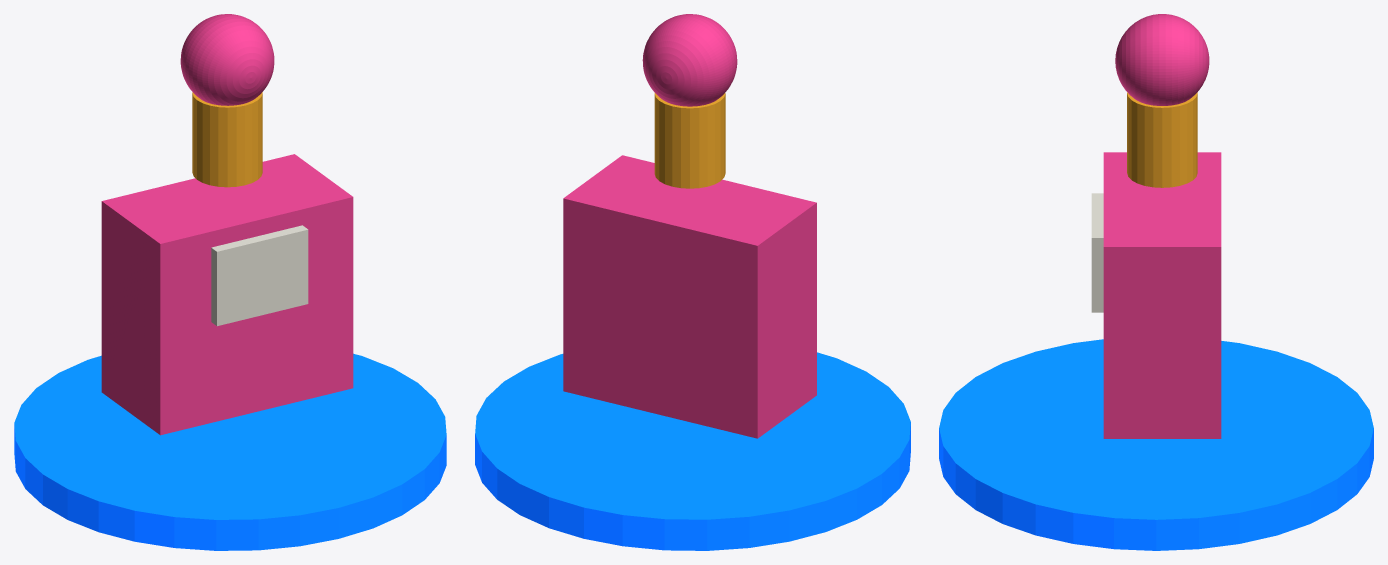
Rendered from french_perfume_bottle.dae.
3 views of the same model, side by side, from view 1: azimuth 30°, elevation 25°; view 2: azimuth 150°, elevation 25°; view 3: azimuth 270°, elevation 25° (orthographic).
Parts seen in each view (by area): view 1: 10_11_Popular_French_Perfume_Bottle_ROOT_base, 10_11_Popular_French_Perfume_Bottle_part_01, 10_11_Popular_French_Perfume_Bottle_part_04, 10_11_Popular_French_Perfume_Bottle_part_03, 10_11_Popular_French_Perfume_Bottle_part_02; view 2: 10_11_Popular_French_Perfume_Bottle_part_01, 10_11_Popular_French_Perfume_Bottle_ROOT_base, 10_11_Popular_French_Perfume_Bottle_part_03, 10_11_Popular_French_Perfume_Bottle_part_02; view 3: 10_11_Popular_French_Perfume_Bottle_ROOT_base, 10_11_Popular_French_Perfume_Bottle_part_01, 10_11_Popular_French_Perfume_Bottle_part_03, 10_11_Popular_French_Perfume_Bottle_part_02, 10_11_Popular_French_Perfume_Bottle_part_04.
Boxes of the visible parts, left/top/right/bottom form: 10_11_Popular_French_Perfume_Bottle_ROOT_base: left=14, top=353, right=446, bottom=550; 10_11_Popular_French_Perfume_Bottle_part_01: left=101, top=154, right=353, bottom=435; 10_11_Popular_French_Perfume_Bottle_part_04: left=211, top=225, right=308, bottom=326; 10_11_Popular_French_Perfume_Bottle_part_03: left=180, top=14, right=274, bottom=105; 10_11_Popular_French_Perfume_Bottle_part_02: left=192, top=92, right=262, bottom=187; 10_11_Popular_French_Perfume_Bottle_part_01: left=563, top=155, right=816, bottom=438; 10_11_Popular_French_Perfume_Bottle_ROOT_base: left=475, top=352, right=910, bottom=550; 10_11_Popular_French_Perfume_Bottle_part_03: left=642, top=14, right=737, bottom=106; 10_11_Popular_French_Perfume_Bottle_part_02: left=654, top=93, right=725, bottom=188; 10_11_Popular_French_Perfume_Bottle_ROOT_base: left=939, top=339, right=1373, bottom=550; 10_11_Popular_French_Perfume_Bottle_part_01: left=1103, top=152, right=1221, bottom=438; 10_11_Popular_French_Perfume_Bottle_part_03: left=1115, top=14, right=1209, bottom=105; 10_11_Popular_French_Perfume_Bottle_part_02: left=1127, top=92, right=1197, bottom=187; 10_11_Popular_French_Perfume_Bottle_part_04: left=1091, top=193, right=1103, bottom=312.
Size of the model in its own units: 0.76 by 0.85 by 0.76.
